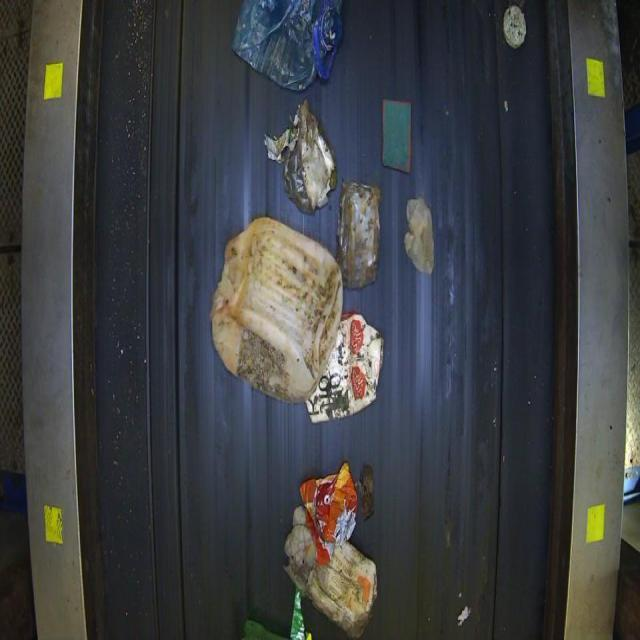cups: (209, 215, 343, 403), (335, 179, 380, 289)
trashbin: (15, 0, 633, 639)
